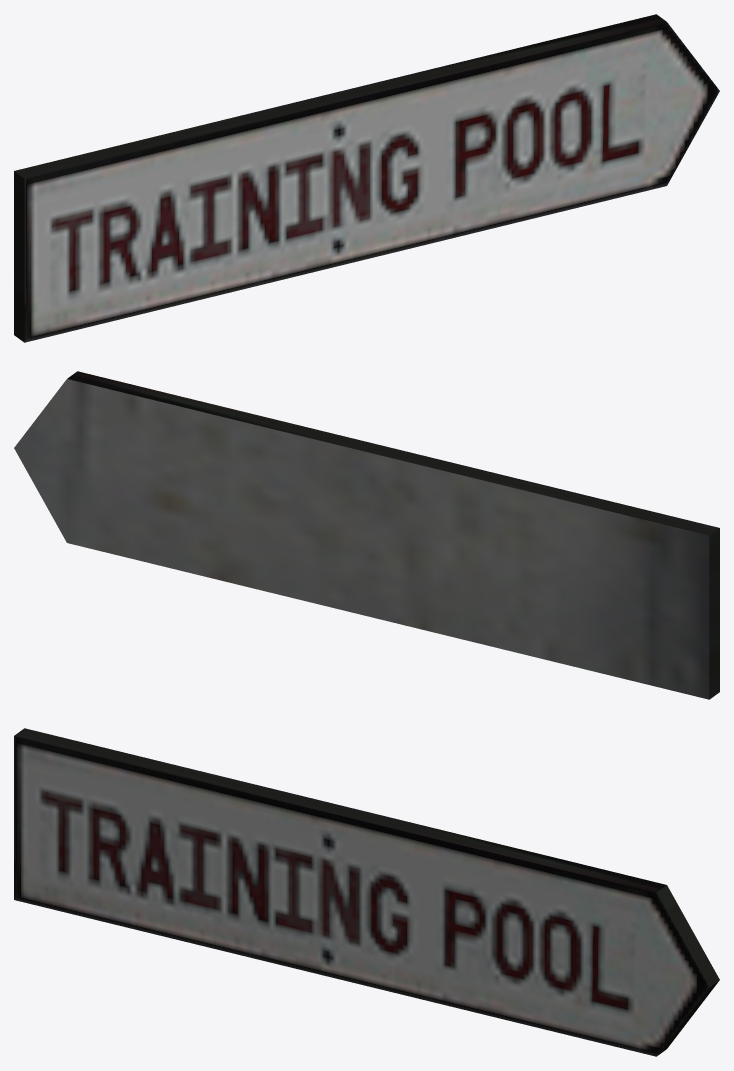
The model's file is Training_Sign2.fbx.
3 views of the same model, one above another, from view 1: azimuth 30°, elevation 25°; view 2: azimuth 150°, elevation 25°; view 3: azimuth 330°, elevation 25° (orthographic).
Parts seen in each view (by area): view 1: tabula; view 2: tabula; view 3: tabula.
Boxes of the visible parts, x1,y1,x2,y2 form: tabula: (14, 14, 719, 342); tabula: (14, 371, 719, 699); tabula: (14, 728, 719, 1056).
Bounding box in the file's own units: 76.37 × 17.22 × 2.
